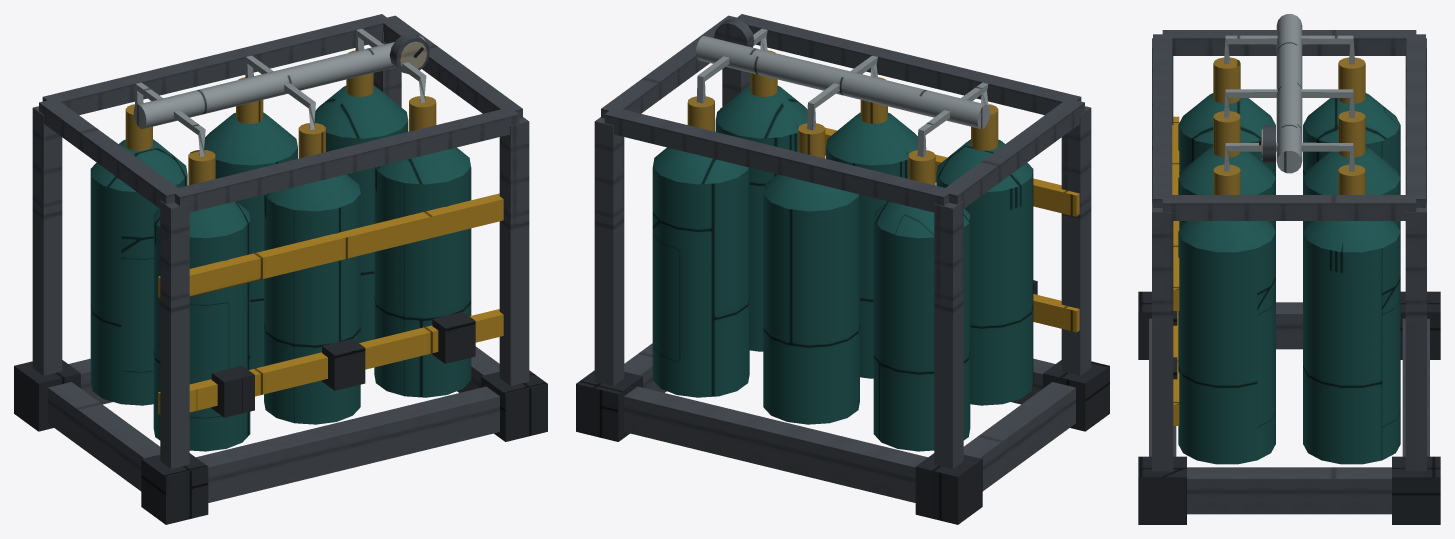
File: cargo-gas-bottle-cluster_lod1.glb
The picture shows the model from 3 angles, left to right: view 1: azimuth 30°, elevation 25°; view 2: azimuth 150°, elevation 25°; view 3: azimuth 270°, elevation 25°; orthographic projection.
Parts seen in each view (by area): view 1: LOD1_Hull, LOD1_Mechanical, LOD1_Armor, LOD1_Warning, LOD1_BrushedMetal, LOD1_Livery; view 2: LOD1_Hull, LOD1_Mechanical, LOD1_BrushedMetal, LOD1_Armor, LOD1_Livery, LOD1_Warning; view 3: LOD1_Hull, LOD1_Mechanical, LOD1_Armor, LOD1_BrushedMetal, LOD1_Livery, LOD1_Warning.
Boxes of the visible parts, left/top/right/bottom form: LOD1_Hull: left=90, top=85, right=471, bottom=451; LOD1_Mechanical: left=32, top=14, right=529, bottom=502; LOD1_Armor: left=14, top=311, right=547, bottom=524; LOD1_Warning: left=158, top=193, right=503, bottom=414; LOD1_BrushedMetal: left=133, top=28, right=426, bottom=156; LOD1_Livery: left=125, top=50, right=436, bottom=185; LOD1_Hull: left=652, top=85, right=1033, bottom=451; LOD1_Mechanical: left=594, top=14, right=1091, bottom=502; LOD1_BrushedMetal: left=695, top=28, right=990, bottom=157; LOD1_Armor: left=576, top=280, right=1109, bottom=524; LOD1_Livery: left=687, top=50, right=998, bottom=185; LOD1_Warning: left=720, top=107, right=1079, bottom=332; LOD1_Hull: left=1178, top=93, right=1400, bottom=464; LOD1_Mechanical: left=1149, top=30, right=1429, bottom=514; LOD1_Armor: left=1138, top=291, right=1440, bottom=524; LOD1_BrushedMetal: left=1224, top=14, right=1354, bottom=173; LOD1_Livery: left=1213, top=57, right=1365, bottom=194; LOD1_Warning: left=1172, top=116, right=1179, bottom=425.
Bounding box in the file's own units: 2.25 × 2.05 × 1.55.
Materials: 8 (8 with a texture image).
